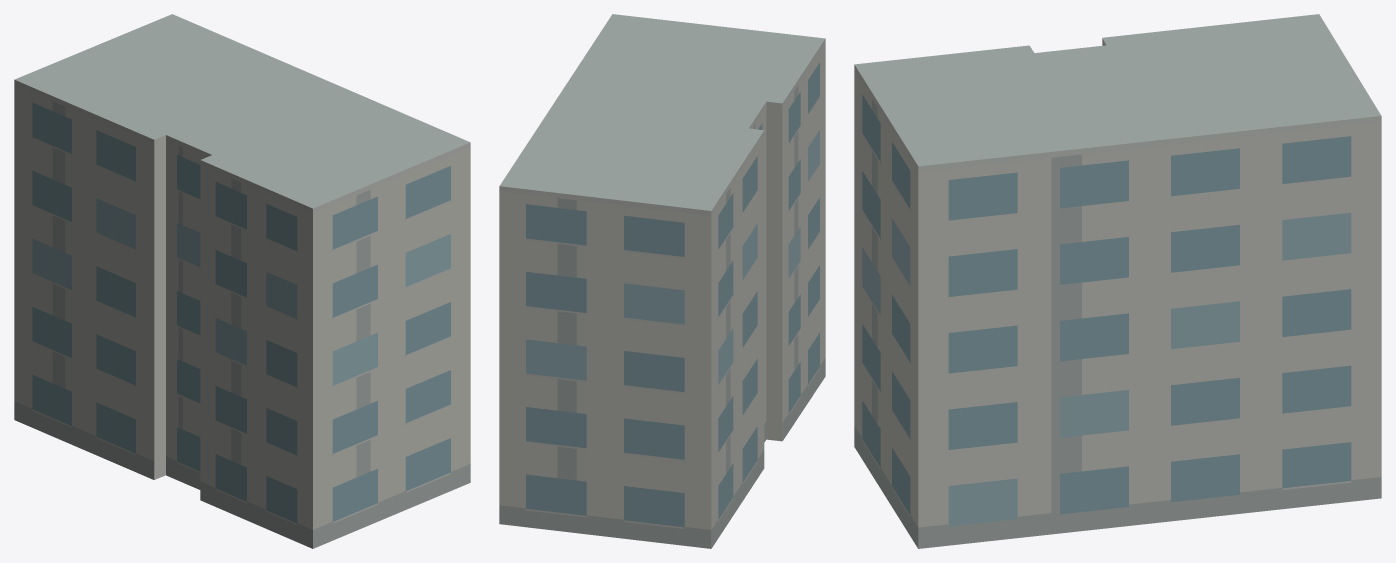
The model's file is survey-upis-32773334.glb.
3 renders of one model, left to right at view 1: azimuth 30°, elevation 25°; view 2: azimuth 150°, elevation 25°; view 3: azimuth 270°, elevation 25°, orthographic. The views are drawn at different scales.
Visible parts, largest first — view 1: survey-upis-32773334.tmp; view 2: survey-upis-32773334.tmp; view 3: survey-upis-32773334.tmp.
Part boxes in pixels (x1,y1,x2,y2): survey-upis-32773334.tmp: [14, 14, 470, 548]; survey-upis-32773334.tmp: [499, 14, 825, 548]; survey-upis-32773334.tmp: [854, 14, 1381, 548].
Bounding box in the file's own units: 13.6 × 15.9 × 19.87.
